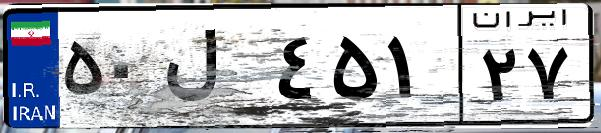0: (110, 28, 158, 98)
1: (385, 28, 445, 110)
2: (475, 38, 525, 113)
4: (270, 28, 330, 110)
5: (330, 28, 385, 110), (57, 26, 110, 100)
7: (525, 38, 570, 115)
ل: (158, 20, 270, 120)
